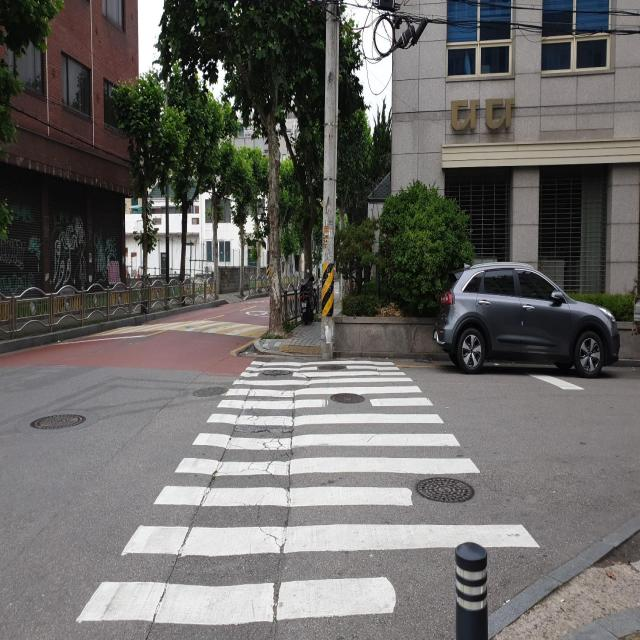횡단보도: (74, 359, 542, 628)
